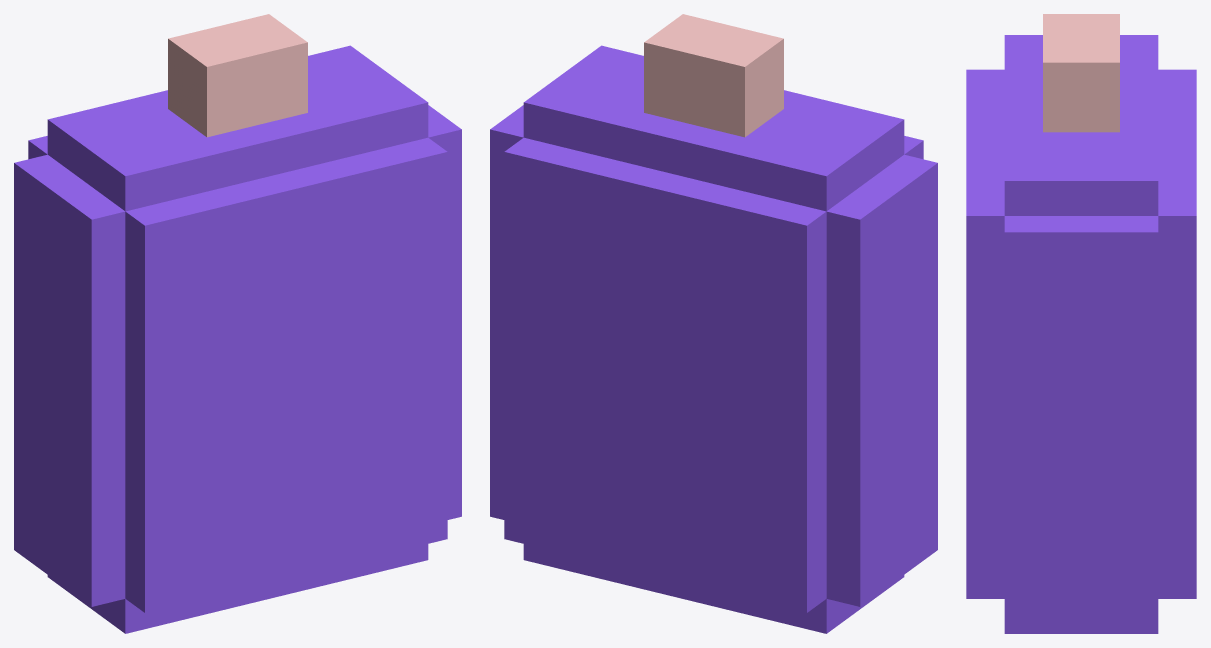
The model's file is Body.obj.
The picture shows the model from 3 angles, left to right: view 1: azimuth 30°, elevation 25°; view 2: azimuth 150°, elevation 25°; view 3: azimuth 270°, elevation 25°; orthographic projection.
Size of the model in its own units: 1.1 by 1.5 by 0.6.
1 material, 1 textured.
